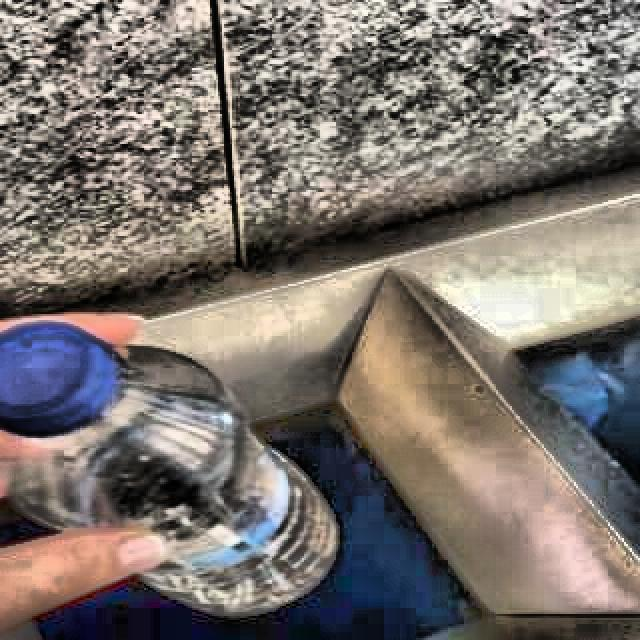plastic: (0, 321, 336, 616)
